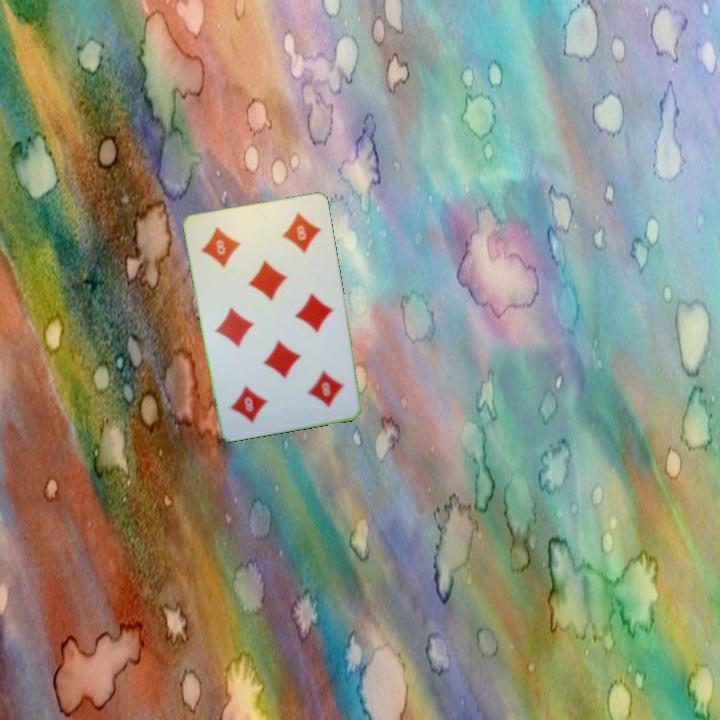d_8.png: (279, 353, 354, 421), (192, 212, 267, 280)
